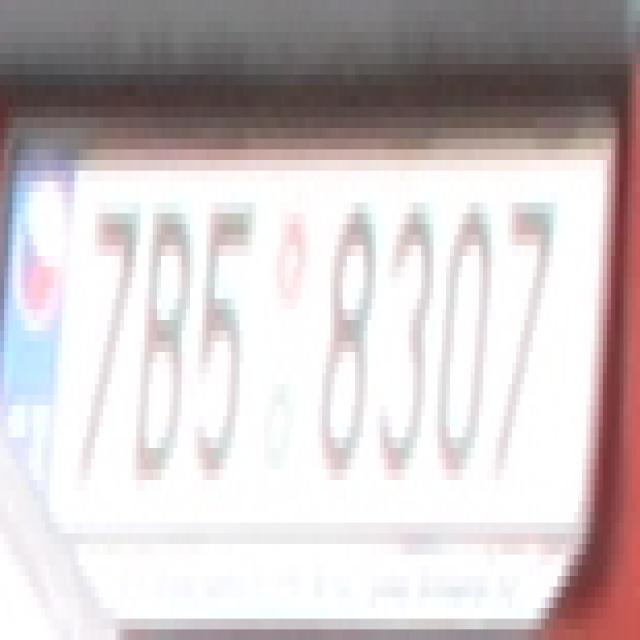0: (434, 192, 492, 480)
3: (384, 192, 434, 469)
5: (198, 192, 252, 480)
7: (75, 202, 136, 490), (496, 202, 554, 490)
8: (314, 192, 372, 469)
B: (140, 202, 186, 490)
